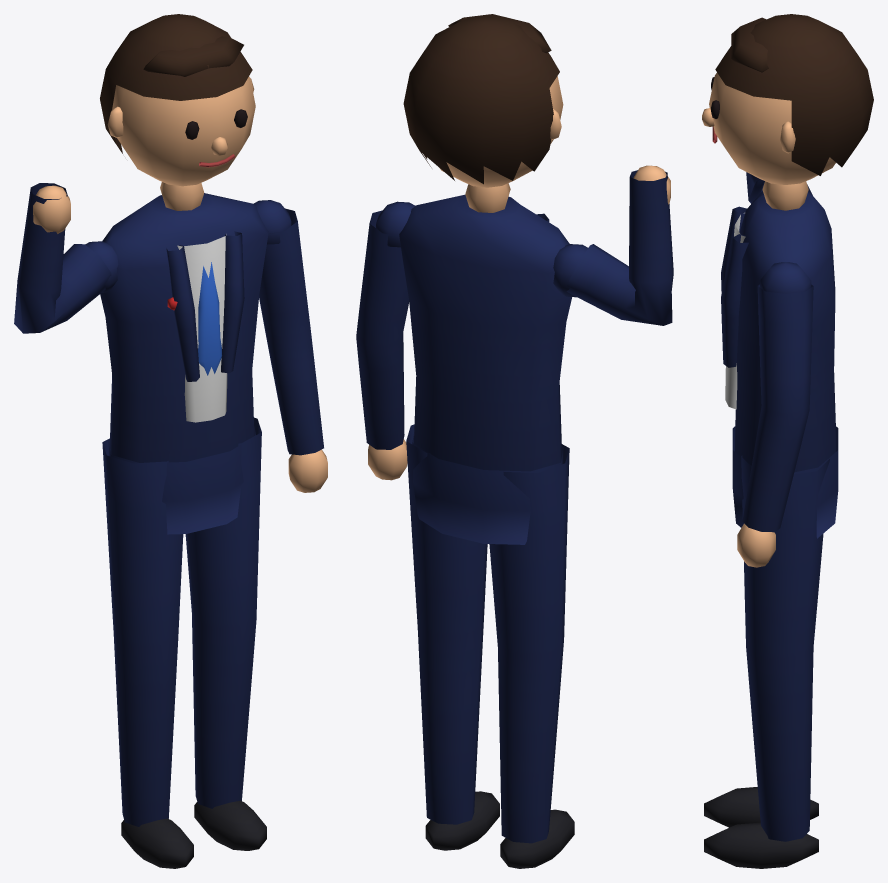
The model's file is VIP_Politician.obj.
3 views of the same model, side by side, from view 1: azimuth 30°, elevation 25°; view 2: azimuth 150°, elevation 25°; view 3: azimuth 270°, elevation 25° (orthographic). The views are drawn at different scales.
Visible parts, largest first — view 1: Torso, LegR, LegL, Head, ArmL, ArmR; view 2: Torso, LegR, Head, LegL, ArmL, ArmR; view 3: LegL, Head, Torso, ArmL, LegR, ArmR.
Boxes of the visible parts, x1,y1,x2,y2 form: Torso: (100,182,268,534); LegR: (102,438,193,868); LegL: (185,417,266,850); Head: (100,14,255,186); ArmL: (253,200,327,492); ArmR: (14,183,118,333); Torso: (399,183,571,544); LegR: (489,444,574,868); Head: (403,14,563,187); LegL: (406,424,499,850); ArmL: (356,201,414,480); ArmR: (553,165,673,325); LegL: (704,455,829,868); Head: (702,14,873,184); Torso: (721,181,838,538); ArmL: (737,262,813,567); LegR: (704,787,818,827); ArmR: (746,172,812,203).
Size of the model in its own units: 0.7425 by 1.93 by 0.3641.
Materials: 1 (1 with a texture image).
